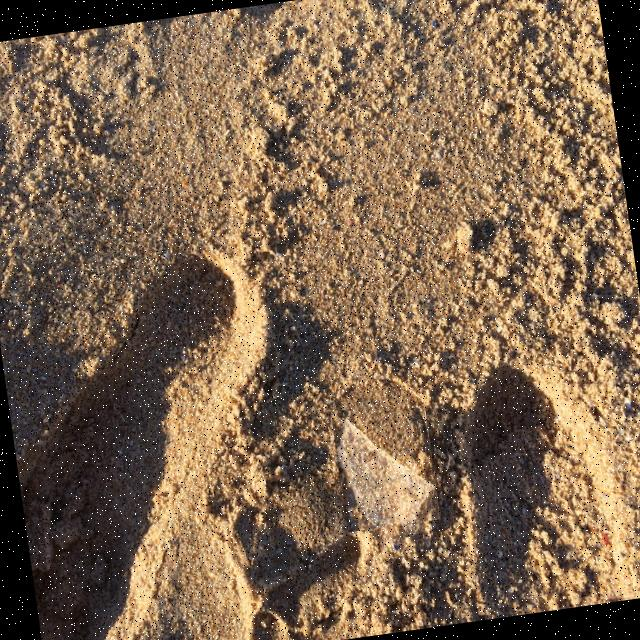Plastic film: (336, 418, 436, 526)
